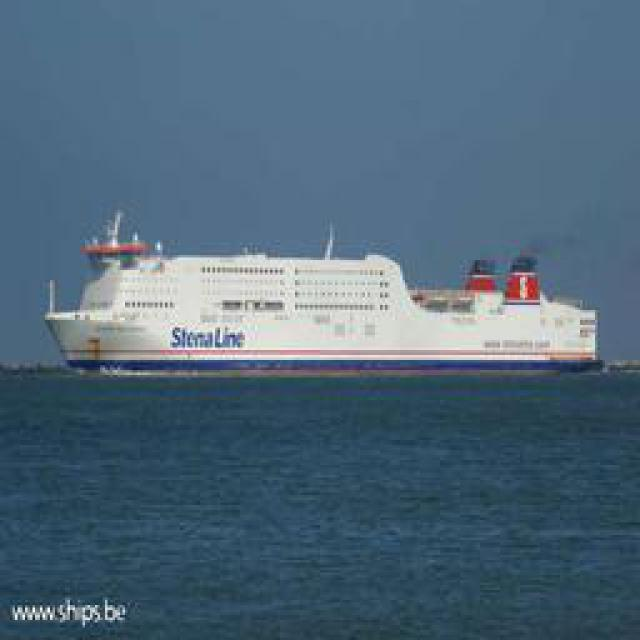Ship: (40, 223, 608, 371)
